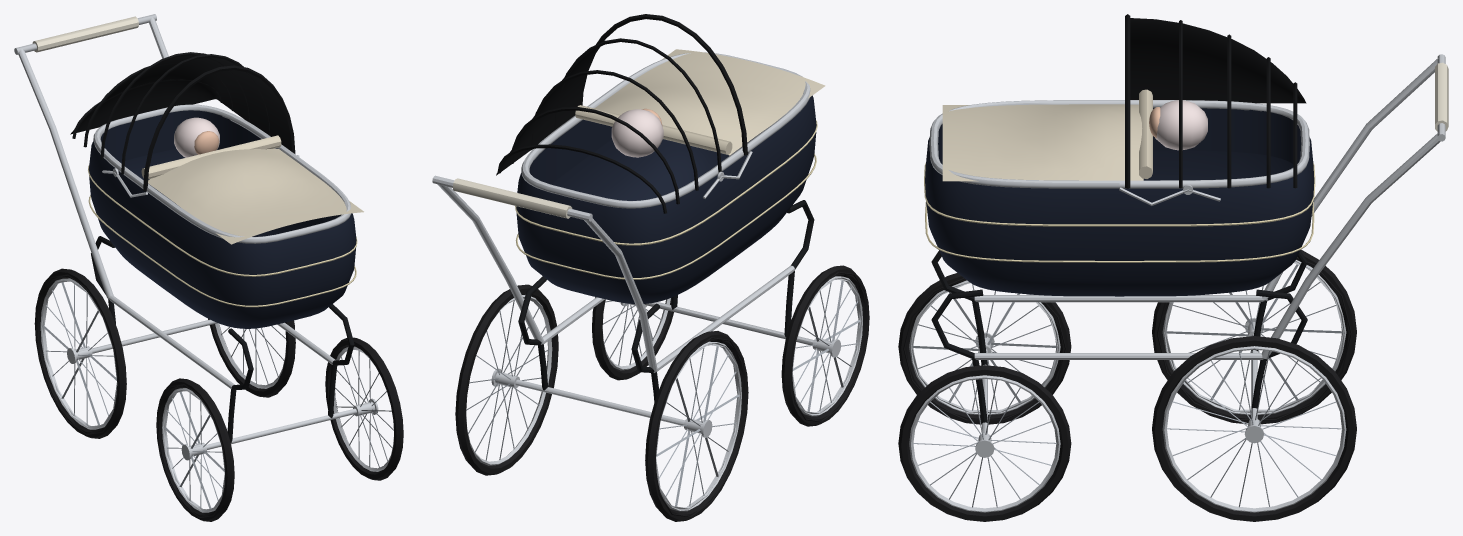
File: pram.58d87a3c.glb
The picture shows the model from 3 angles, left to right: view 1: azimuth 30°, elevation 25°; view 2: azimuth 150°, elevation 25°; view 3: azimuth 270°, elevation 25°; orthographic projection. The views are drawn at different scales.
Visible parts, largest first — view 1: pram_body, pram_wheel_r_left, pram_wheel_f, pram_wheel_f_left, pram_wheel_r_lod1_left, pram_wheel_r, pram_wheel_f_lod1_left; view 2: pram_body, pram_wheel_r, pram_wheel_r_left, pram_wheel_f_left, pram_wheel_r_lod1_left, pram_wheel_f_lod1_left, pram_wheel_f; view 3: pram_body, pram_wheel_r, pram_wheel_f, pram_wheel_r_left, pram_wheel_f_left, pram_wheel_r_lod1_left, pram_wheel_f_lod1_left.
Boxes of the visible parts, x1,y1,x2,y2 form: pram_body: (14, 14, 363, 449); pram_wheel_r_left: (34, 268, 126, 438); pram_wheel_f: (325, 337, 403, 480); pram_wheel_f_left: (156, 378, 234, 521); pram_wheel_r_lod1_left: (35, 274, 118, 434); pram_wheel_r: (208, 318, 295, 397); pram_wheel_f_lod1_left: (157, 384, 226, 517); pram_body: (432, 14, 825, 425); pram_wheel_r: (455, 284, 558, 475); pram_wheel_r_left: (645, 331, 748, 521); pram_wheel_f_left: (781, 265, 869, 426); pram_wheel_r_lod1_left: (654, 337, 747, 517); pram_wheel_f_lod1_left: (790, 272, 868, 422); pram_wheel_f: (592, 297, 673, 380); pram_body: (924, 14, 1448, 433); pram_wheel_r: (1152, 336, 1356, 521); pram_wheel_f: (898, 365, 1071, 521); pram_wheel_r_left: (1152, 249, 1356, 424); pram_wheel_f_left: (898, 273, 1071, 424); pram_wheel_r_lod1_left: (1157, 257, 1351, 420); pram_wheel_f_lod1_left: (903, 278, 1066, 420).
Size of what is drawn, in the model's own units: 0.636 by 1.24 by 1.37.
1 material, 1 textured.
